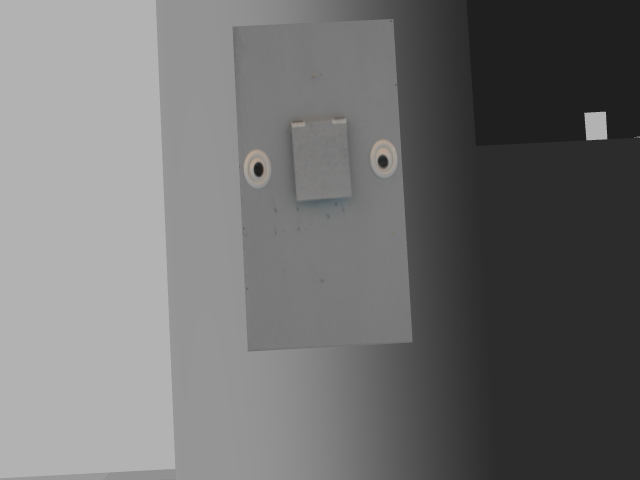facade: (240, 114, 402, 203)
